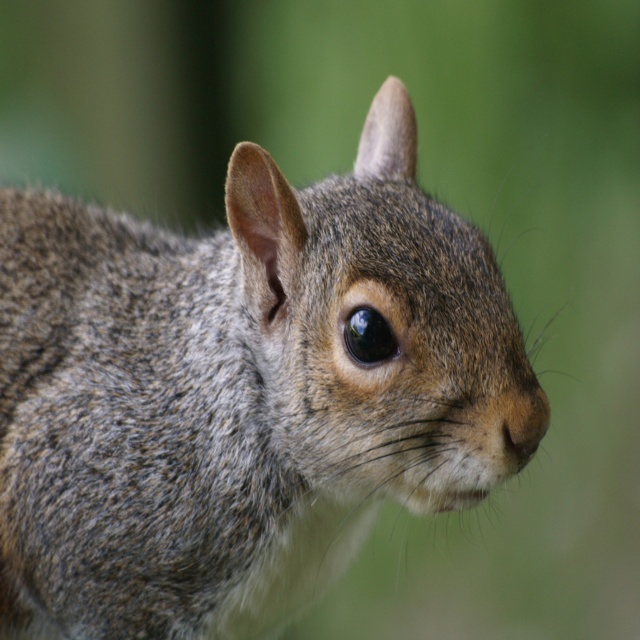Rabbit: (0, 75, 579, 639)
